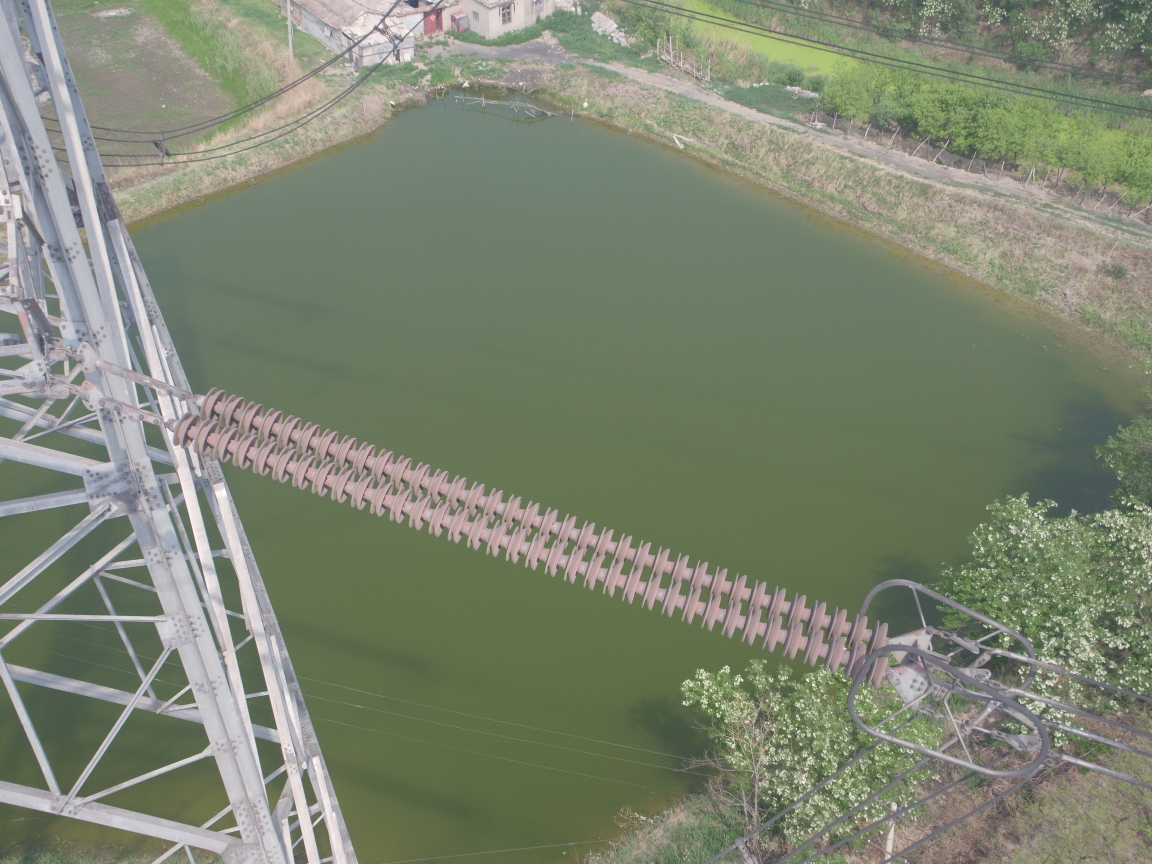insulator: (122, 374, 907, 697)
